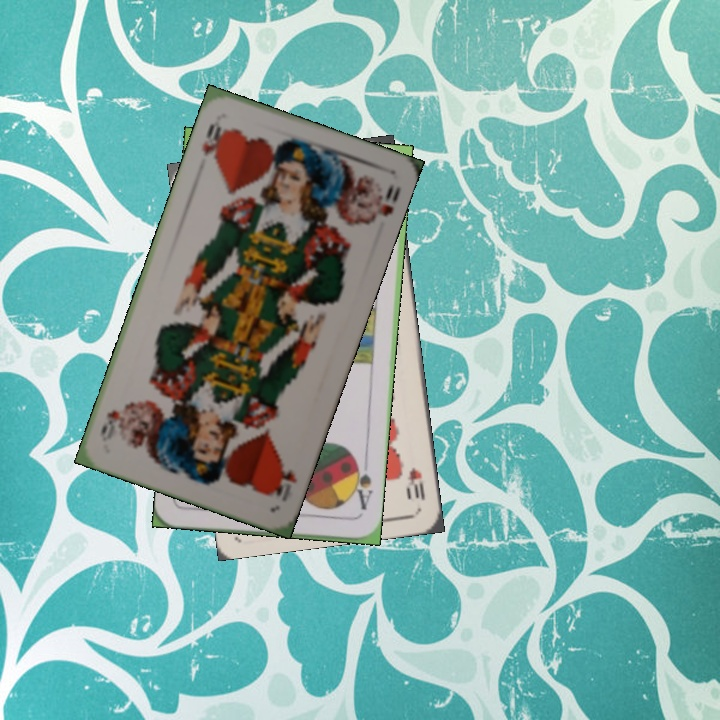H10: (403, 463, 428, 503)
HO: (267, 459, 300, 504), (197, 120, 229, 162)
SA: (348, 457, 376, 512)
